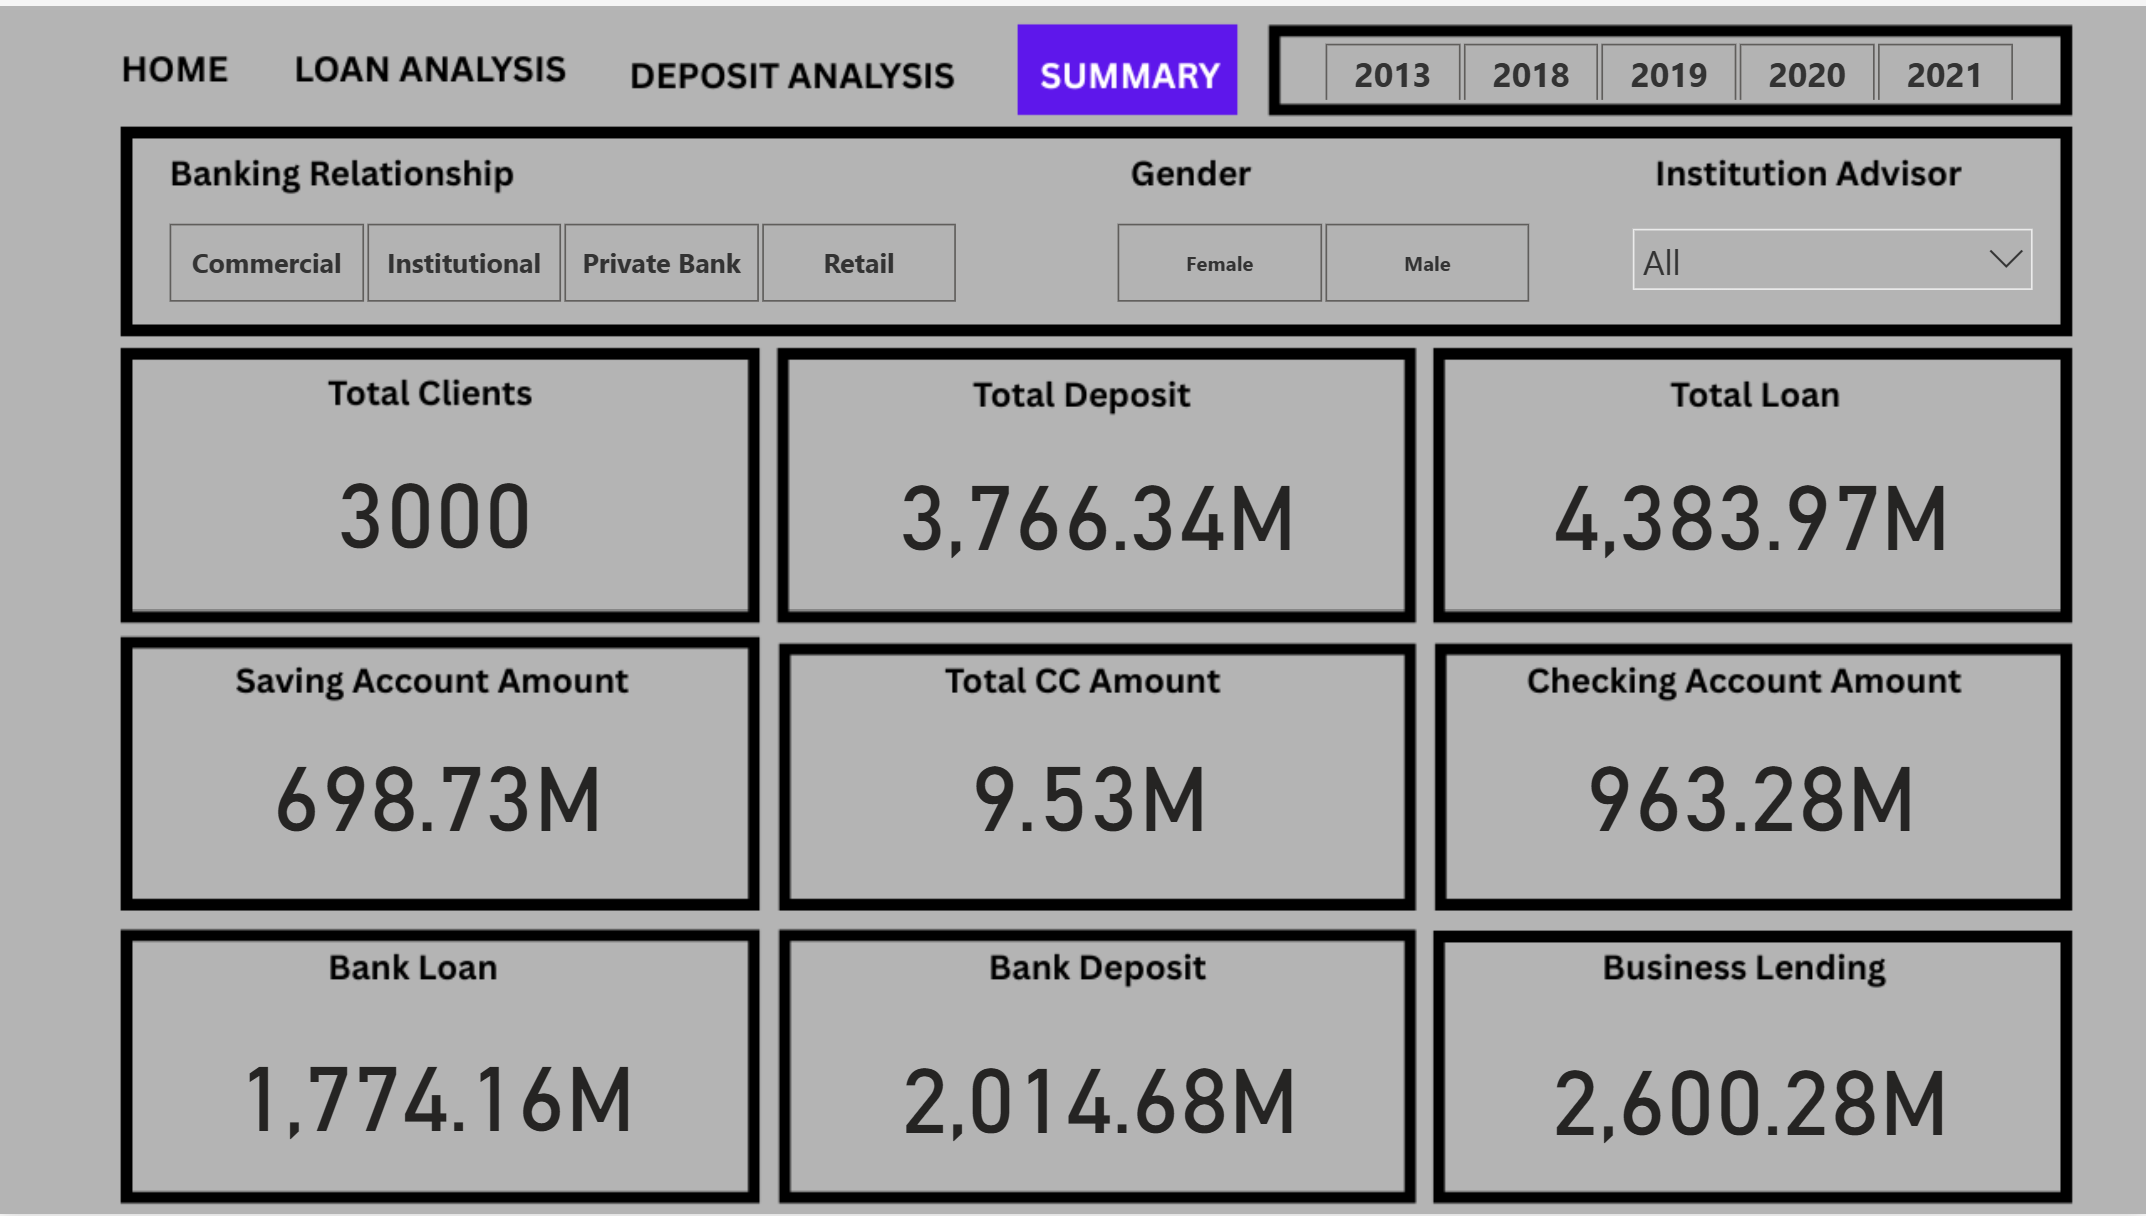

This screenshot's page, from the dashboard's own definition file:
{"tool":"powerbi","page":{"name":"Summary","canvas":[1280,720],"ordinal":3},"visuals":[{"type":"card","fields":{"Values":["Sum(banking_case customer.Bank Deposits)"]},"box":[529.1,606.4,252,79],"z":0},{"type":"card","fields":{"Values":["Sum(banking_case customer.Checking Accounts)"]},"box":[925.6,426.7,236.9,77.3],"z":1},{"type":"card","fields":{"Values":["Sum(banking_case customer.Saving Accounts)"]},"box":[154.5,426.7,211.7,77.3],"z":2},{"type":"card","fields":{"Values":["banking_case customer.Total Deposit"]},"box":[525.8,258.7,257,79],"z":3},{"type":"card","fields":{"Values":["Sum(banking_case customer.Bank Loans)"]},"box":[134.4,604.7,250.3,79],"z":4},{"type":"card","fields":{"Values":["Sum(banking_case customer.Credit Card Balance)"]},"box":[549.3,426.7,201.6,77.3],"z":5},{"type":"card","fields":{"Values":["banking_case customer.Total Loan"]},"box":[918.8,258.7,252,79],"z":6},{"type":"card","fields":{"Values":["Sum(banking_case customer.Business Lending)"]},"box":[918.8,608.1,250.3,77.3],"z":7},{"type":"card","fields":{"Values":["CountNonNull(banking_case customer.Name)"]},"box":[152.9,258.7,213.3,77.3],"z":8},{"type":"slicer","fields":{"Values":["banking_case customer.BRId"]},"box":[75.6,122.6,519.1,60.5],"z":9},{"type":"slicer","fields":{"Values":["banking_case customer.GenderId"]},"box":[640,122.6,295.6,60.5],"z":10},{"type":"slicer","fields":{"Values":["banking_case customer.IAId"]},"box":[964.2,122.6,258.7,60.5],"z":11},{"type":"slicer","fields":{"Values":["banking_case customer.Year of Joining"]},"box":[764.8,15.9,459.8,40.5],"z":12},{"type":"actionButton","box":[52.1,16.8,100.8,43.7],"z":13},{"type":"actionButton","box":[159.6,16.8,188.1,43.7],"z":14},{"type":"actionButton","box":[366.2,16.8,210,43.7],"z":15}]}

Visuals, with their boxes in screenshot pixels (x1, y1, x2, y2), scaled from the page's 1280x720 canvas onto the 2146x1216 screenshot:
card - Sum(banking_case customer.Bank Deposits): bbox=(887, 1024, 1310, 1158)
card - Sum(banking_case customer.Checking Accounts): bbox=(1552, 721, 1949, 851)
card - Sum(banking_case customer.Saving Accounts): bbox=(259, 721, 614, 851)
card - banking_case customer.Total Deposit: bbox=(882, 437, 1312, 570)
card - Sum(banking_case customer.Bank Loans): bbox=(225, 1021, 645, 1155)
card - Sum(banking_case customer.Credit Card Balance): bbox=(921, 721, 1259, 851)
card - banking_case customer.Total Loan: bbox=(1540, 437, 1963, 570)
card - Sum(banking_case customer.Business Lending): bbox=(1540, 1027, 1960, 1158)
card - CountNonNull(banking_case customer.Name): bbox=(256, 437, 614, 567)
slicer - banking_case customer.BRId: bbox=(127, 207, 997, 309)
slicer - banking_case customer.GenderId: bbox=(1073, 207, 1569, 309)
slicer - banking_case customer.IAId: bbox=(1617, 207, 2050, 309)
slicer - banking_case customer.Year of Joining: bbox=(1282, 27, 2053, 95)
actionButton: bbox=(87, 28, 256, 102)
actionButton: bbox=(268, 28, 583, 102)
actionButton: bbox=(614, 28, 966, 102)
